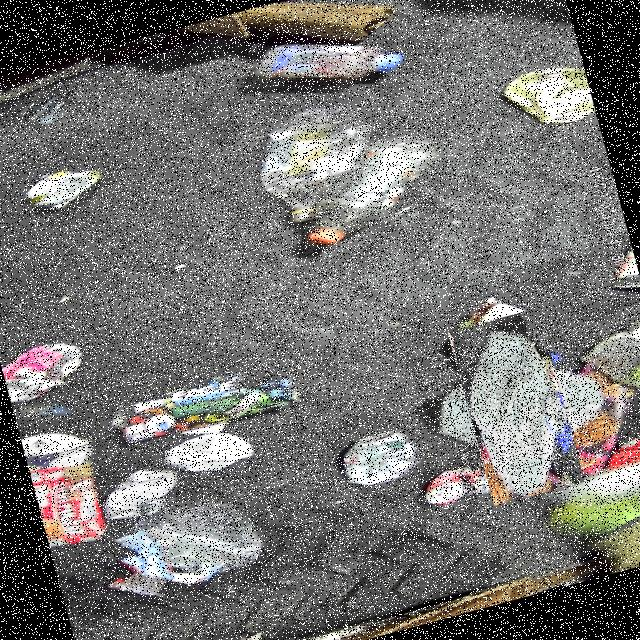milk-jug: (431, 321, 599, 489)
